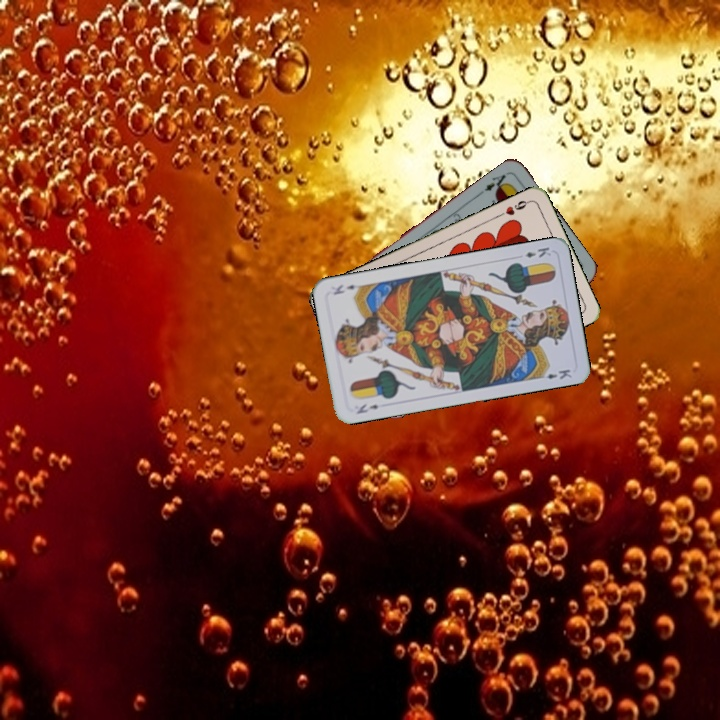EA: (480, 168, 511, 196)
EK: (521, 243, 554, 260), (353, 400, 381, 417)
H9: (494, 196, 532, 219)
